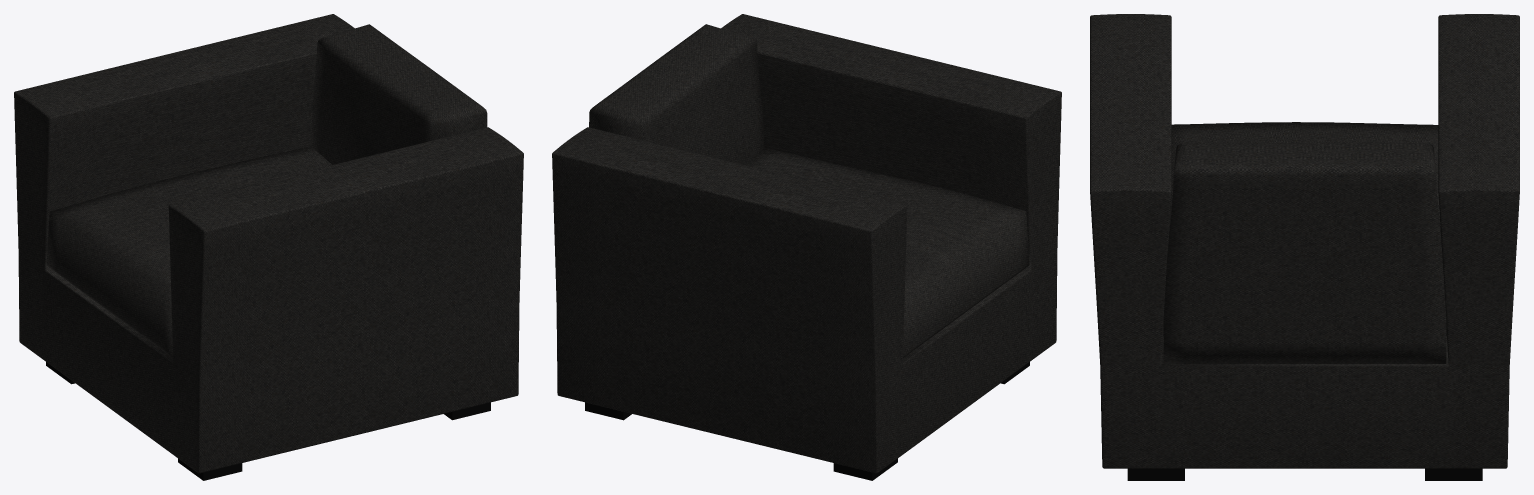
The model's file is fauteuil.glb.
The picture shows the model from 3 angles, left to right: view 1: azimuth 30°, elevation 25°; view 2: azimuth 150°, elevation 25°; view 3: azimuth 270°, elevation 25°; orthographic projection. The views are drawn at different scales.
Visible parts, largest first — view 1: Cube.003; view 2: Cube.003; view 3: Cube.003.
Part boxes in pixels (box(x1,y1,x2,y2)): Cube.003: box(14, 14, 523, 480); Cube.003: box(552, 14, 1061, 480); Cube.003: box(1090, 14, 1519, 480).
Size of the model in its own units: 0.8095 by 0.69 by 0.8349.
Materials: 2 (1 with a texture image).
